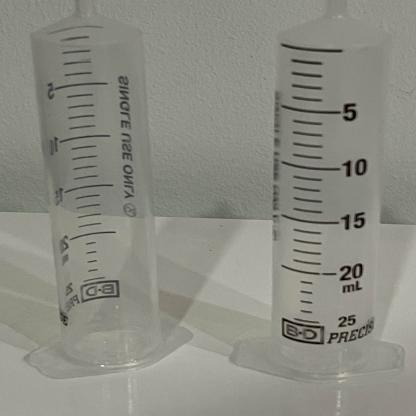dry: (17, 4, 200, 374), (252, 2, 402, 378)
